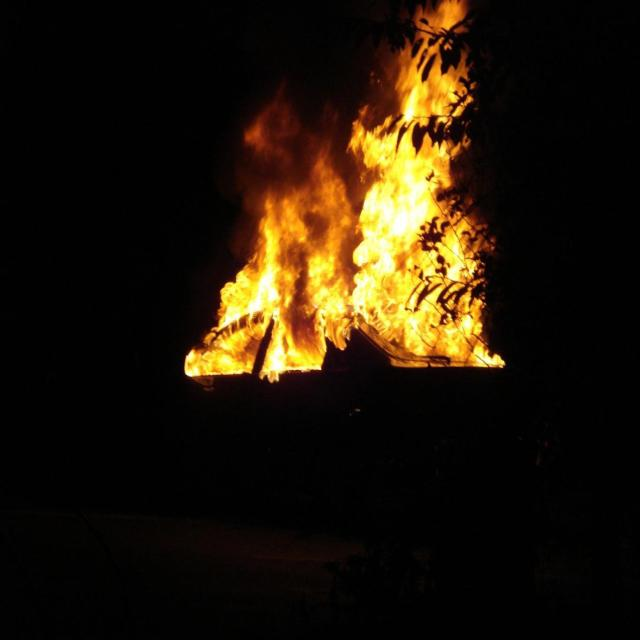fire: (181, 8, 515, 379)
